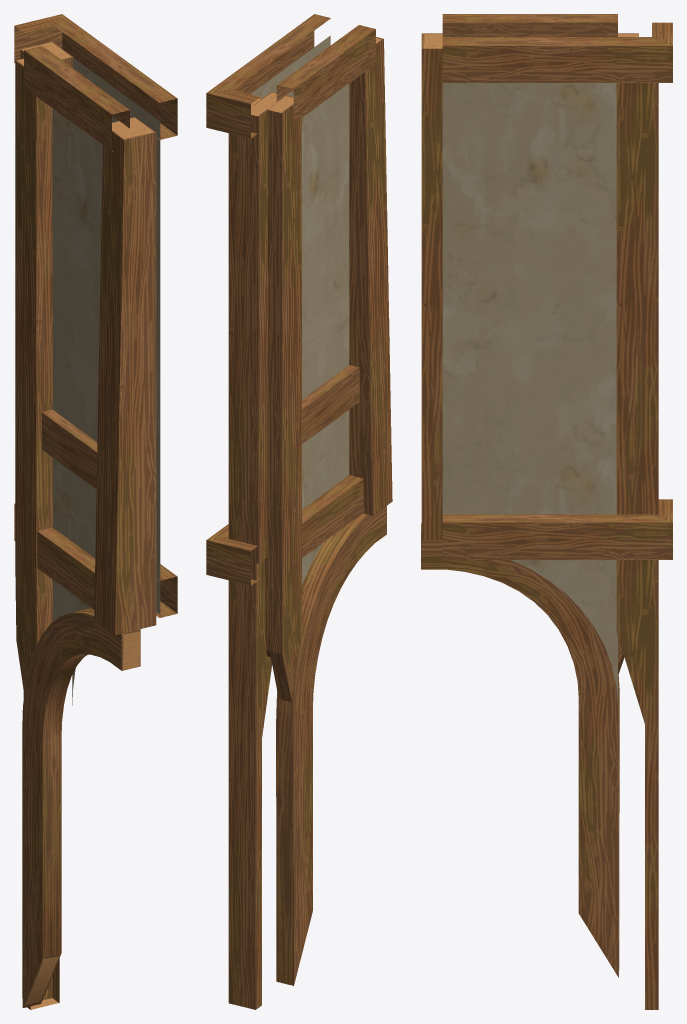
Rendered from Overhang_Side_Plaster_Short_L.gltf.
3 renders of one model, left to right at view 1: azimuth 30°, elevation 25°; view 2: azimuth 150°, elevation 25°; view 3: azimuth 270°, elevation 25°, orthographic. The views are drawn at different scales.
Visible parts, largest first — view 1: Overhang_Side_Plaster_Short_L; view 2: Overhang_Side_Plaster_Short_L; view 3: Overhang_Side_Plaster_Short_L.
Boxes of the visible parts, bbox=[...] form: Overhang_Side_Plaster_Short_L: bbox=[14, 14, 177, 1009]; Overhang_Side_Plaster_Short_L: bbox=[206, 14, 392, 1009]; Overhang_Side_Plaster_Short_L: bbox=[421, 14, 672, 1009].
Bounding box in the file's own units: 0.4794 × 6.12 × 1.44.
2 materials, 2 textured.
